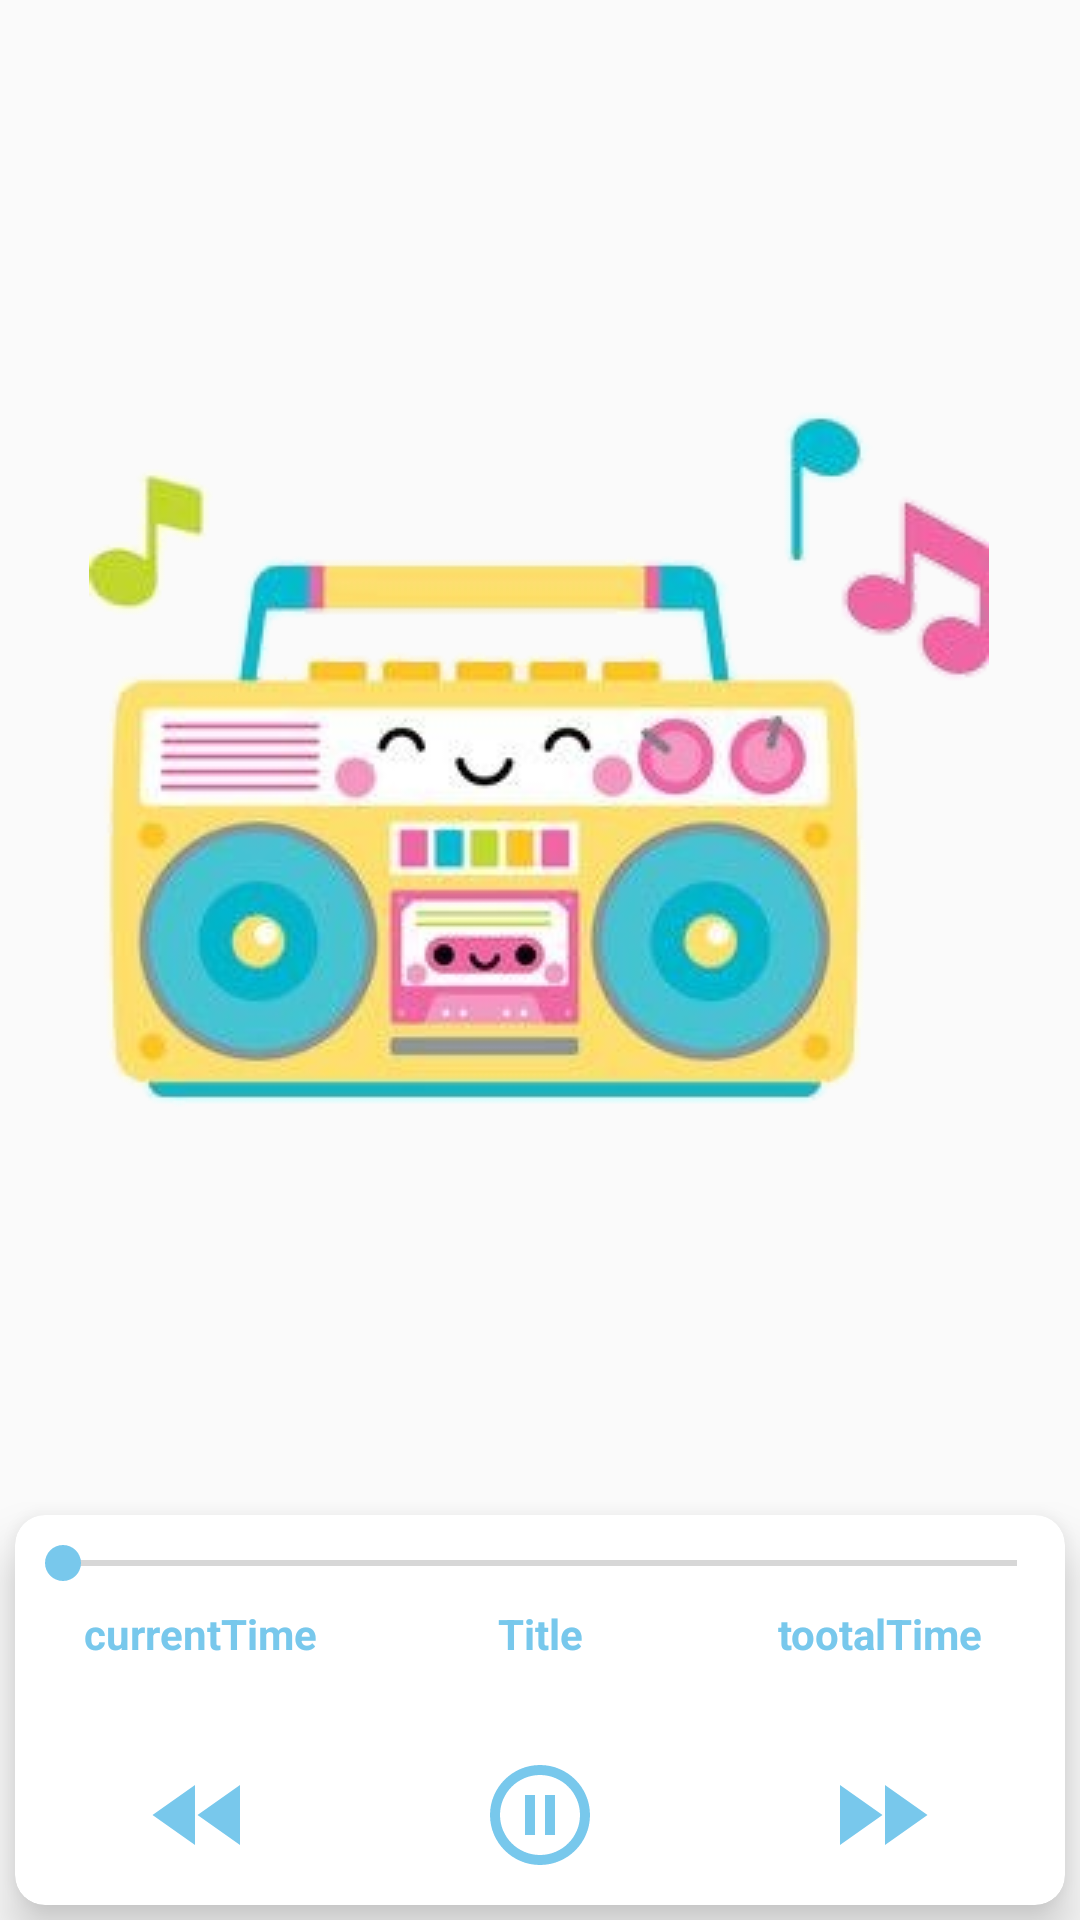

Icons on this 1080*1920 Android screen, each with the point to tap as [x,y]:
fast forward: [883,1815]
fast rewind: [196,1815]
pause circle: [540,1815]
